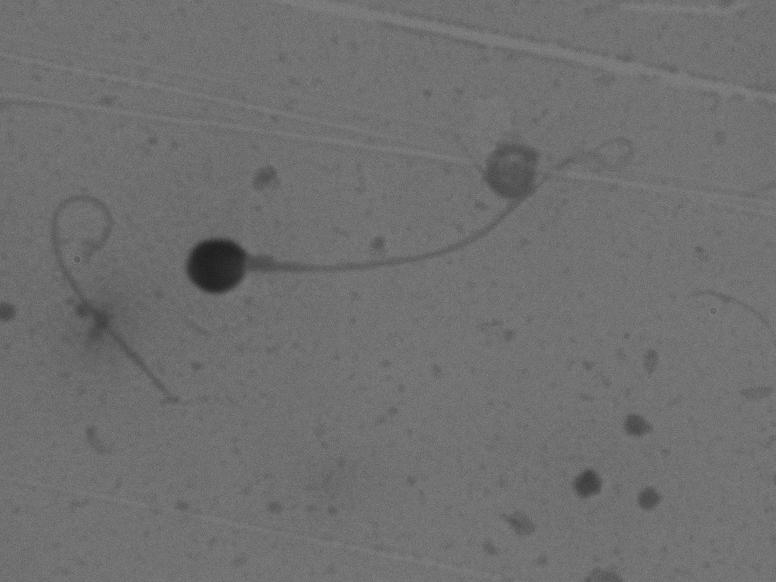Abnormal: (162, 87, 627, 366)
